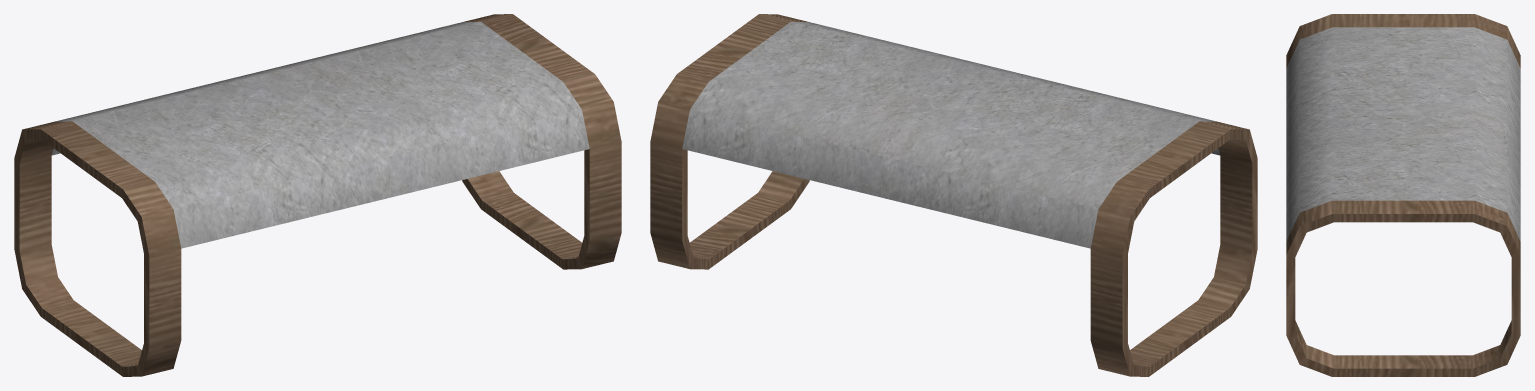
File: Table_34.glb
The picture shows the model from 3 angles, left to right: view 1: azimuth 30°, elevation 25°; view 2: azimuth 150°, elevation 25°; view 3: azimuth 270°, elevation 25°; orthographic projection. The views are drawn at different scales.
Parts seen in each view (by area): view 1: Table_34; view 2: Table_34; view 3: Table_34.
Part boxes in pixels (bbox=[...]): Table_34: bbox=[14, 14, 621, 376]; Table_34: bbox=[650, 14, 1257, 376]; Table_34: bbox=[1286, 14, 1520, 376].
Bounding box in the file's own units: 1.66 × 0.6309 × 0.8228.
Materials: 2 (2 with a texture image).
